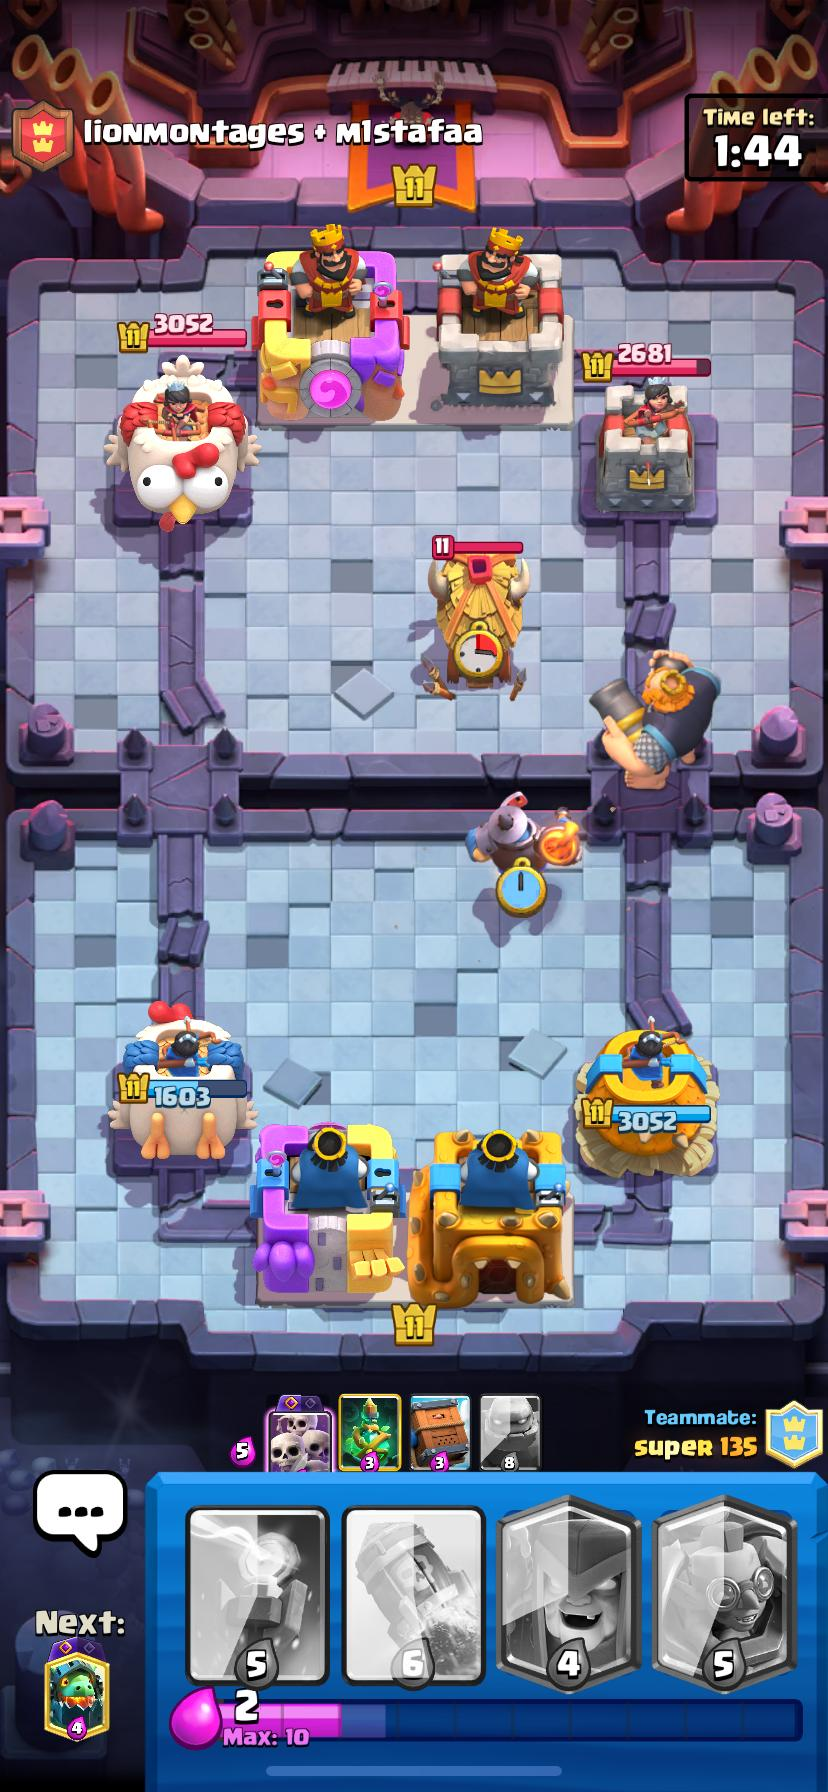EGoblinHut: (428, 534, 530, 678)
EKingTower: (253, 227, 408, 419), (435, 232, 570, 405)
EnemyPrincessTower: (105, 355, 257, 529), (596, 378, 693, 518)
OFurnace: (465, 792, 580, 873)
ORoyalG: (590, 649, 720, 789)
OwnKingTower: (407, 1129, 573, 1307), (253, 1122, 403, 1303)
OwnPrincessTower: (109, 1002, 256, 1159), (576, 1019, 717, 1178)
